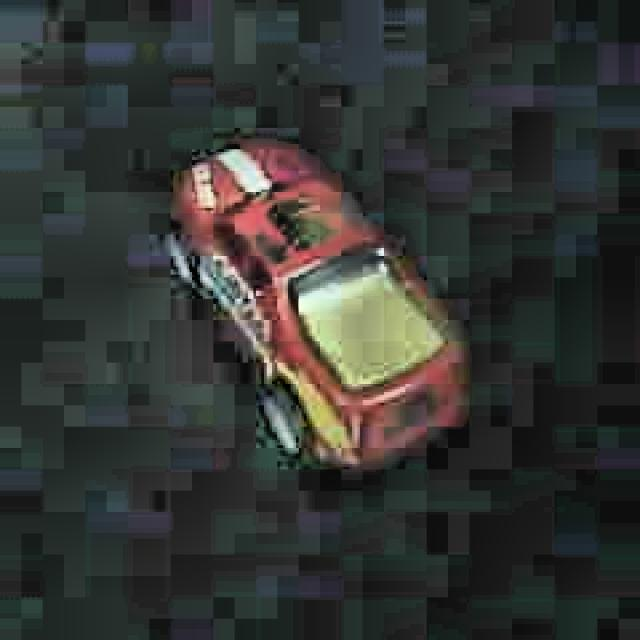car: (151, 114, 480, 493)
